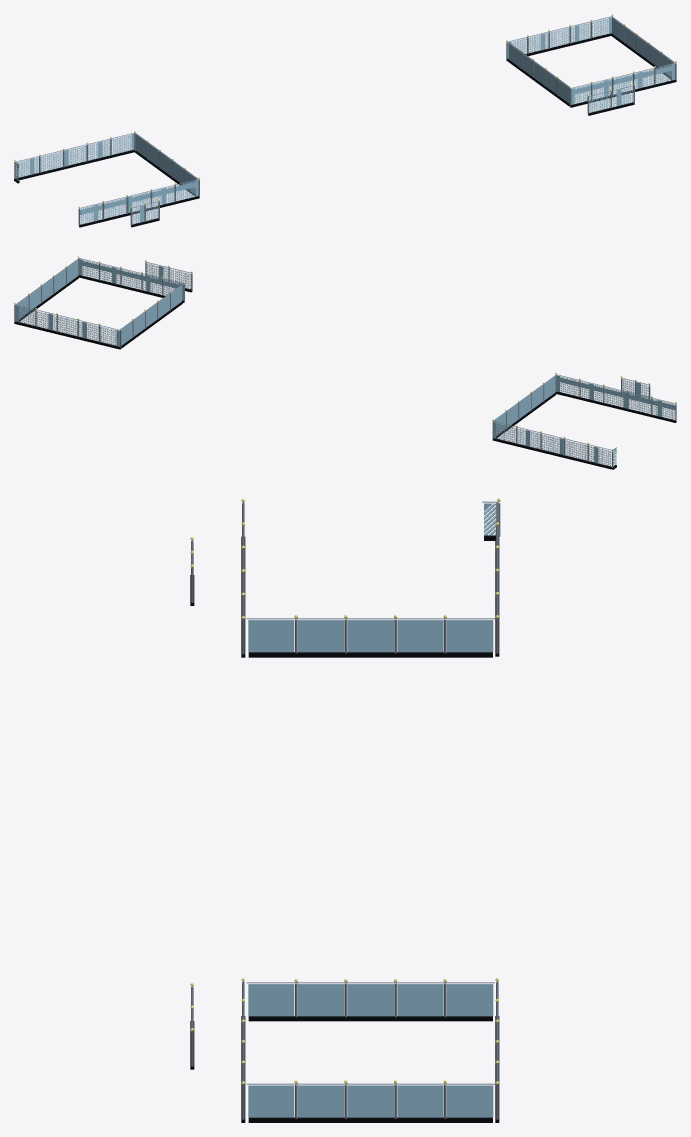
The model's file is tt_struct_guards_holes_f3.glb.
3 renders of one model, top to bottom at view 1: azimuth 30°, elevation 25°; view 2: azimuth 150°, elevation 25°; view 3: azimuth 270°, elevation 25°, orthographic. The views are drawn at different scales.
Visible parts, largest first — view 1: Guard_Pane_Scissor, Guard_Kerb, Guard_Posts, Guard_Rail; view 2: Guard_Pane_Scissor, Guard_Kerb, Guard_Posts, Guard_Rail; view 3: Guard_Pane_Scissor, Guard_Kerb, Guard_Rail, Guard_Posts.
Part boxes in pixels (left/top/right/bottom): Guard_Pane_Scissor: left=15, top=17, right=675, bottom=224; Guard_Kerb: left=14, top=33, right=676, bottom=227; Guard_Posts: left=14, top=17, right=676, bottom=225; Guard_Rail: left=15, top=16, right=675, bottom=208; Guard_Pane_Scissor: left=15, top=259, right=675, bottom=466; Guard_Kerb: left=14, top=275, right=676, bottom=469; Guard_Posts: left=14, top=258, right=676, bottom=467; Guard_Rail: left=15, top=258, right=675, bottom=450; Guard_Pane_Scissor: left=192, top=503, right=497, bottom=1117; Guard_Kerb: left=190, top=535, right=499, bottom=1122; Guard_Rail: left=191, top=501, right=498, bottom=1085; Guard_Posts: left=191, top=503, right=500, bottom=1119.
Size of what is drawn, in the model's own units: 35.16 by 1.16 by 7.89.
Materials: 5 (4 with a texture image).
